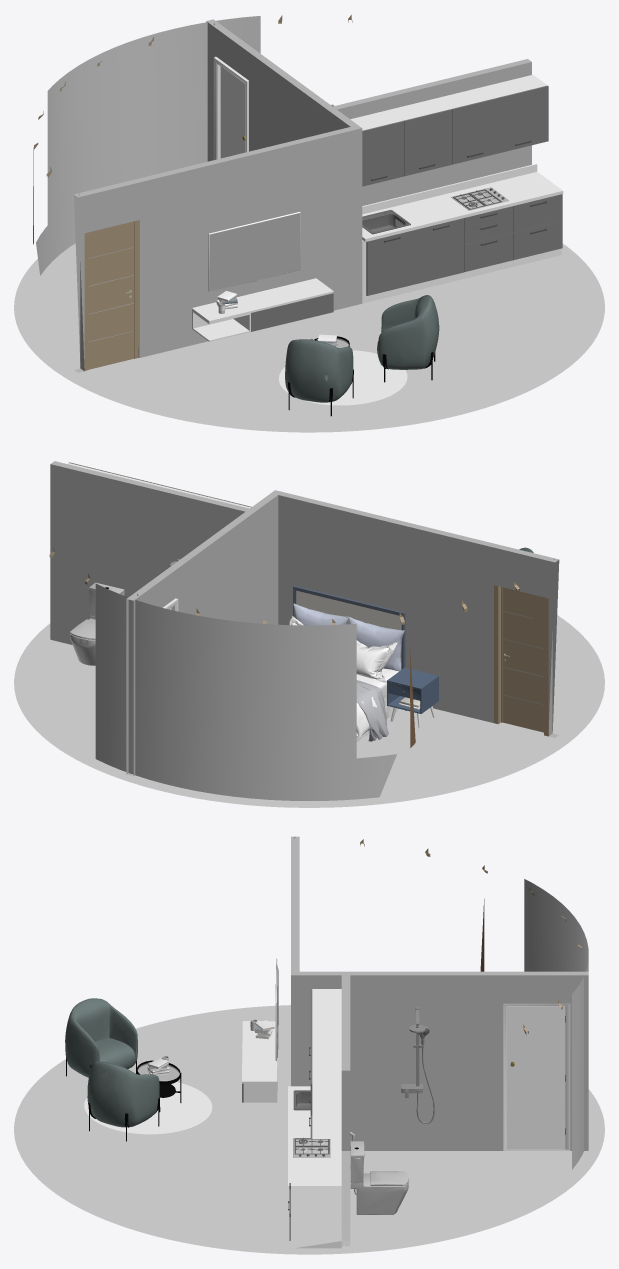
The model's file is symmetry.glb.
3 views of the same model, one above another, from view 1: azimuth 30°, elevation 25°; view 2: azimuth 150°, elevation 25°; view 3: azimuth 270°, elevation 25° (orthographic).
Parts seen in each view (by area): view 1: SKP Vertex Colors, Floor, Material~1, [Granite Brown]1, Wood_Cherry_Original, Tapetah_Fabric_Samba2, 7m; view 2: SKP Vertex Colors, Floor, 淘宝-设计师Vicky的店-布纹-8, download, 淘宝-设计师Vicky的店-布纹-39, FF708172-EE1C-49FB-ADE1-4F9D51396EDC; view 3: Floor, SKP Vertex Colors, Wood_Cherry_Original, Material~1, Tapetah_Fabric_Samba2, [Granite Brown]1, 7m.
Part boxes in pixels (<box>): SKP Vertex Colors: <box>33,15,562,416</box>; Floor: <box>14,243,604,432</box>; Material~1: <box>192,74,561,341</box>; [Granite Brown]1: <box>362,163,563,241</box>; Wood_Cherry_Original: <box>213,57,248,159</box>; Tapetah_Fabric_Samba2: <box>278,350,407,405</box>; 7m: <box>208,212,337,347</box>; SKP Vertex Colors: <box>49,461,559,800</box>; Floor: <box>14,615,604,807</box>; 淘宝-设计师Vicky的店-布纹-8: <box>289,615,402,741</box>; download: <box>293,603,404,671</box>; 淘宝-设计师Vicky的店-布纹-39: <box>296,590,401,644</box>; FF708172-EE1C-49FB-ADE1-4F9D51396EDC: <box>356,680,388,741</box>; Floor: <box>14,1005,604,1254</box>; SKP Vertex Colors: <box>65,836,588,1240</box>; Wood_Cherry_Original: <box>503,1003,570,1149</box>; Material~1: <box>242,989,341,1248</box>; Tapetah_Fabric_Samba2: <box>84,1079,212,1134</box>; [Granite Brown]1: <box>288,1086,341,1185</box>; 7m: <box>147,958,277,1075</box>.
Bounding box in the file's own units: 7 × 2.47 × 7.
